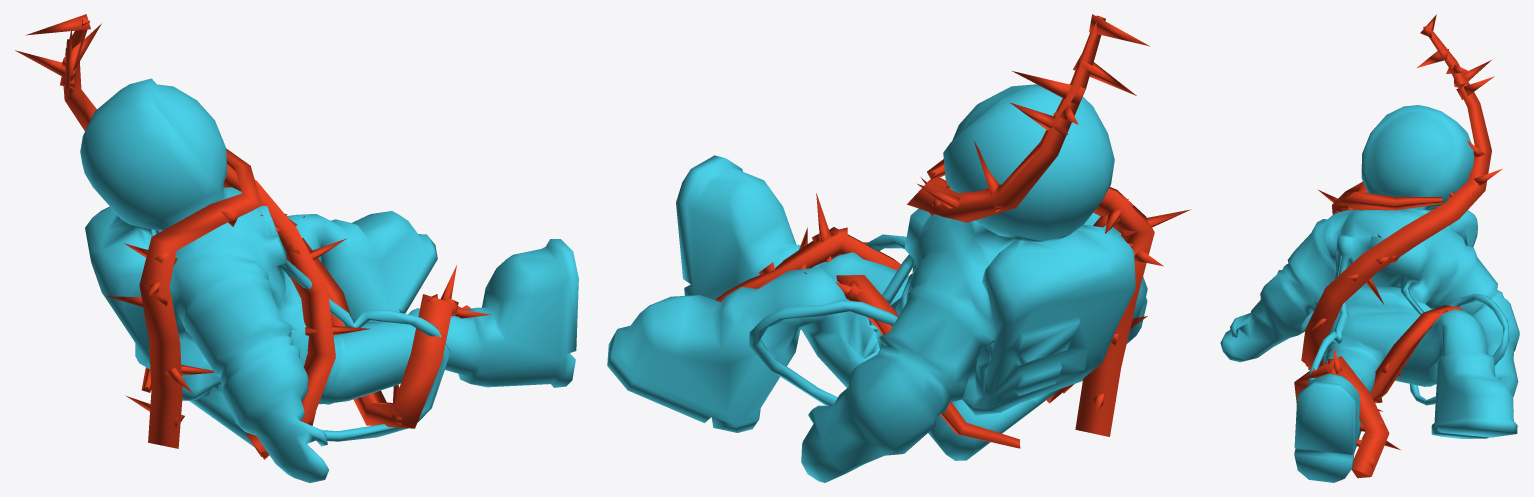
File: Dead_guy_3.fbx
3 renders of one model, left to right at view 1: azimuth 30°, elevation 25°; view 2: azimuth 150°, elevation 25°; view 3: azimuth 270°, elevation 25°, orthographic. The views are drawn at different scales.
Parts seen in each view (by area): view 1: dead_guy1; view 2: dead_guy1; view 3: dead_guy1.
Part boxes in pixels (x1,y1,x2,y2): dead_guy1: [15, 14, 578, 482]; dead_guy1: [607, 14, 1190, 482]; dead_guy1: [1220, 14, 1519, 482].
Bounding box in the file's own units: 398 × 346 × 291.
